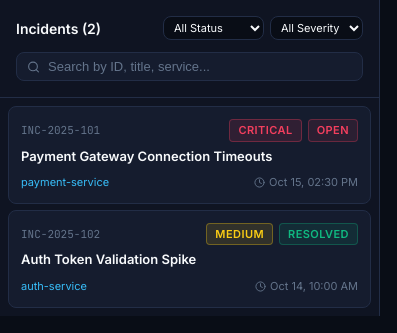
Test: IncidentList Component › filters incidents by status dropdown
Select "Open" in the 1st dropdown showing "All Status" at (214, 28), box [163,16,264,40]
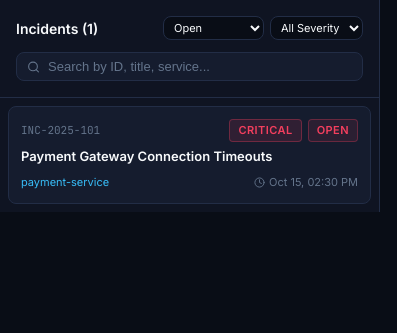
Expected: the text "INC-2025-101" is shown, [21,122,100,138]
Expected: the text "INC-2025-102" is gone
